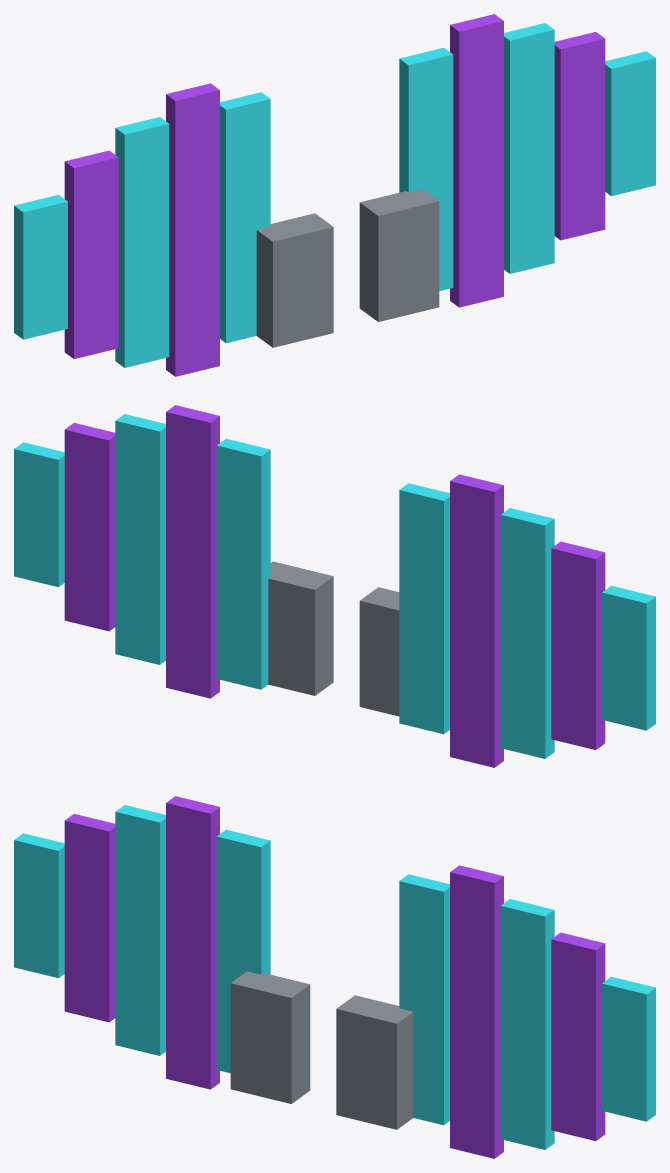
Rendered from back_wings.obj.
3 views of the same model, one above another, from view 1: azimuth 30°, elevation 25°; view 2: azimuth 150°, elevation 25°; view 3: azimuth 330°, elevation 25° (orthographic).
Visible parts, largest first — view 1: back_wings; view 2: back_wings; view 3: back_wings.
Part boxes in pixels (x1,y1,x2,y2): back_wings: (14,14,655,376); back_wings: (14,405,655,767); back_wings: (14,796,655,1158).
Size of the model in its own units: 1.95 by 0.8125 by 0.1375.
